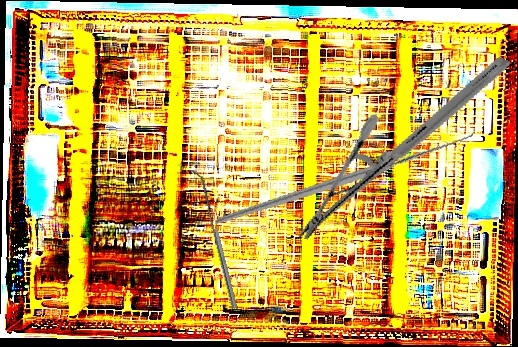Hook Surgical: (216, 72, 476, 273)
Needle Holder: (295, 12, 512, 285)
Spatula Surgical: (191, 167, 238, 311)
